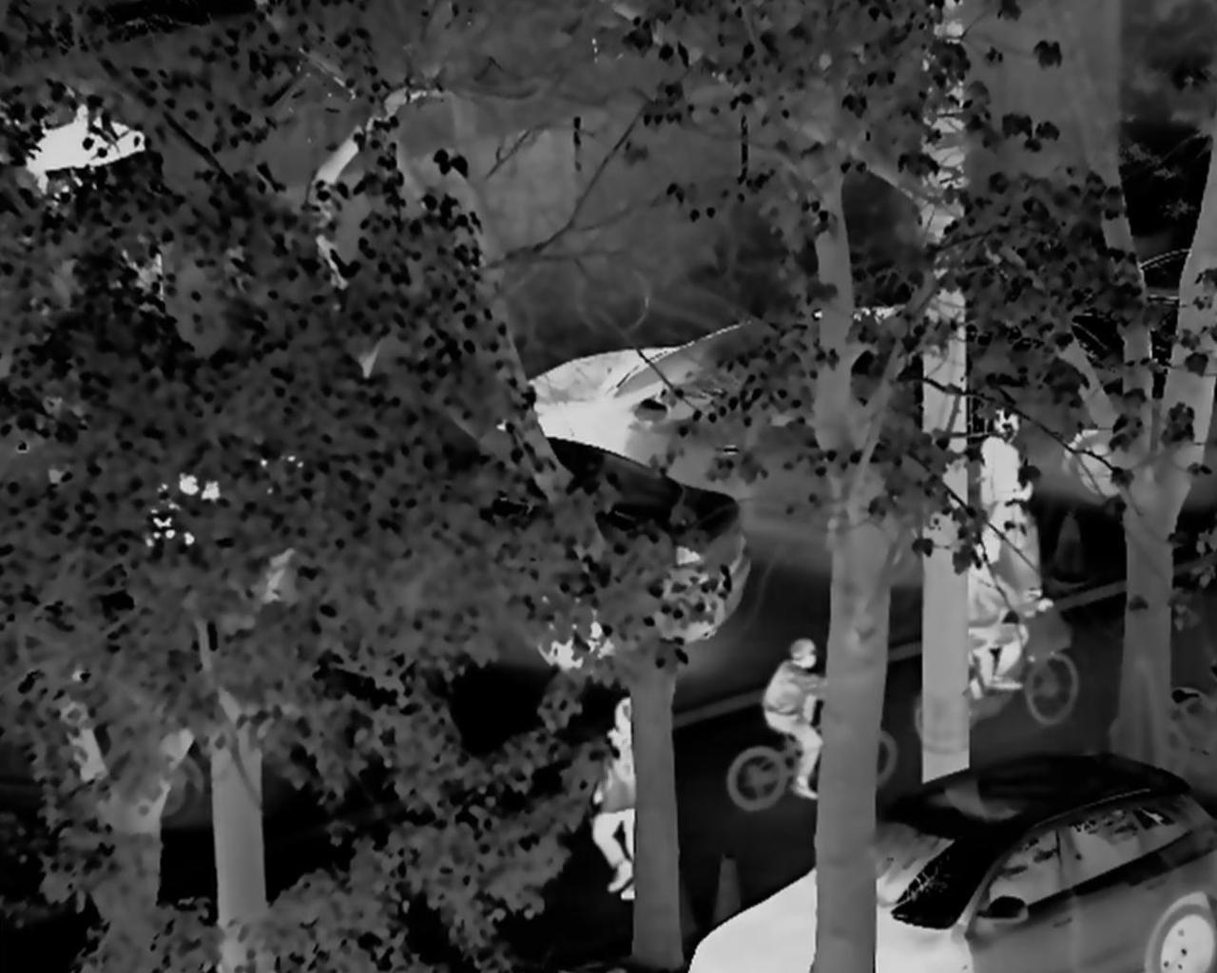person: (757, 632, 849, 818), (958, 530, 1050, 715), (583, 703, 651, 907), (986, 406, 1036, 540)
